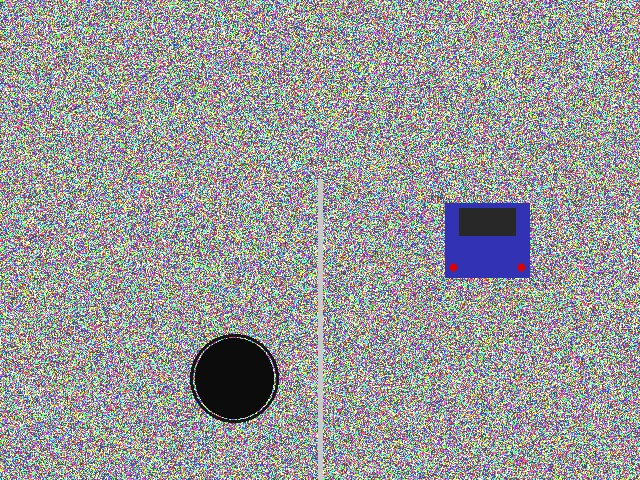pothole: (195, 338, 273, 418)
vehicle: (445, 202, 530, 278)
